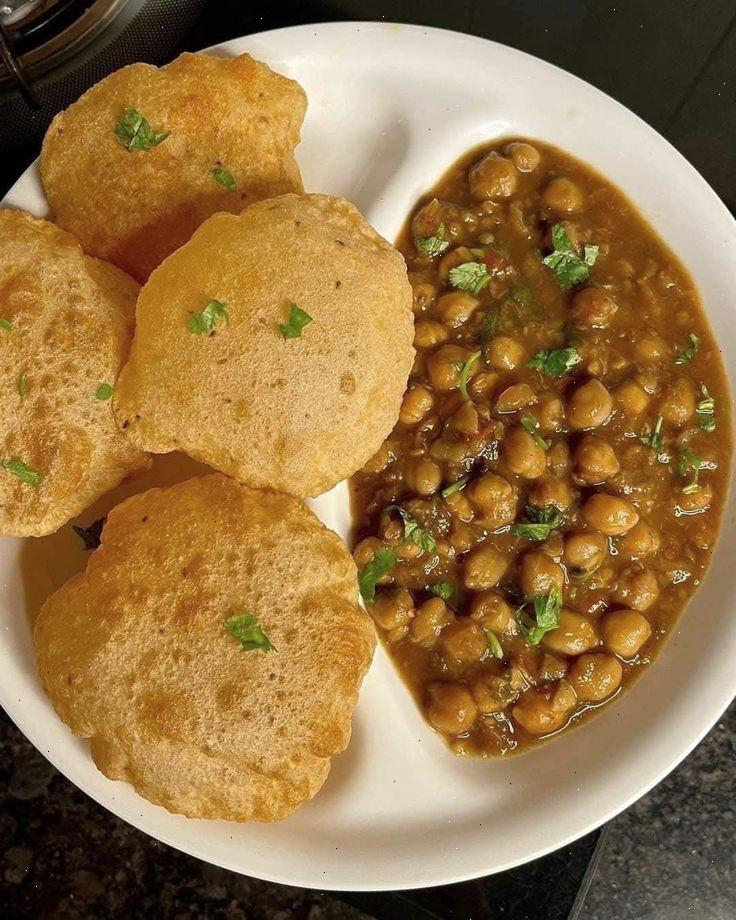chole: (430, 179, 679, 696)
puri: (16, 71, 410, 846)
